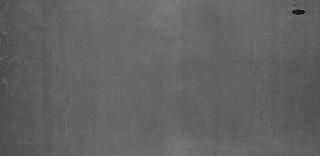punching hole: (290, 8, 308, 16)
